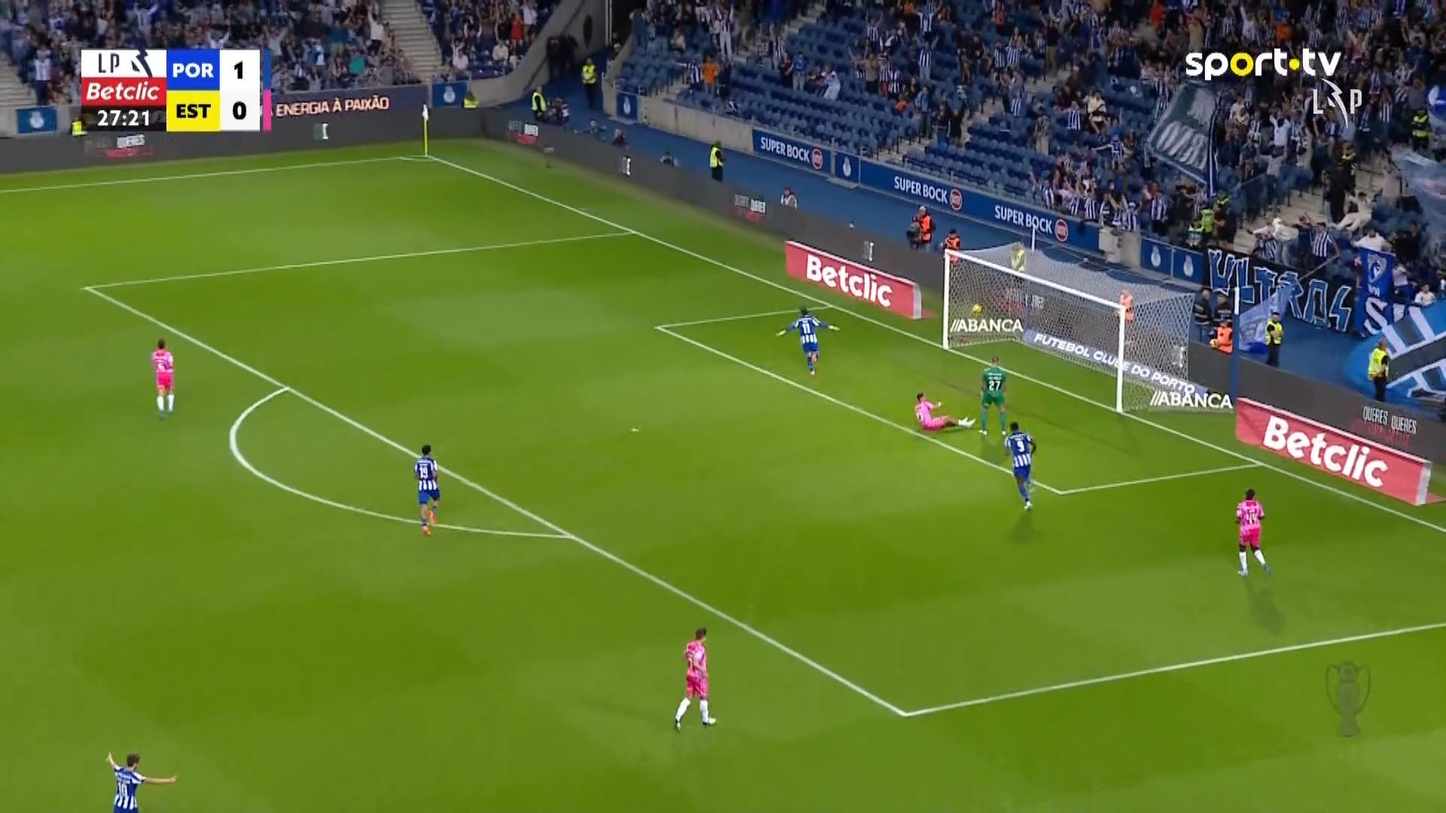goalkeeper: (913, 391, 975, 431)
player: (774, 305, 840, 376), (673, 626, 716, 732), (105, 749, 178, 811), (1234, 487, 1271, 576), (1003, 420, 1036, 510), (413, 443, 441, 535), (978, 355, 1008, 435), (150, 337, 175, 416)
